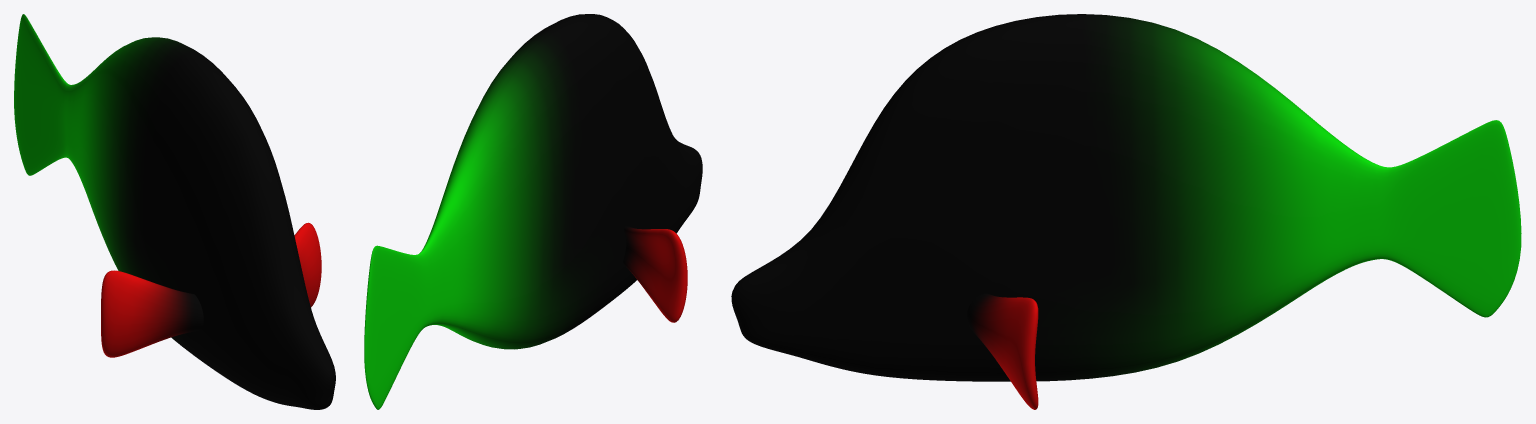
File: Fish.fbx
The picture shows the model from 3 angles, left to right: view 1: azimuth 30°, elevation 25°; view 2: azimuth 150°, elevation 25°; view 3: azimuth 270°, elevation 25°; orthographic projection. The views are drawn at different scales.
Parts seen in each view (by area): view 1: Fish; view 2: Fish; view 3: Fish.
Boxes of the visible parts, <box> form: Fish: <box>14,14,335,409</box>; Fish: <box>364,14,702,409</box>; Fish: <box>731,14,1521,409</box>.
Size of the model in its own units: 94 by 119 by 235.
